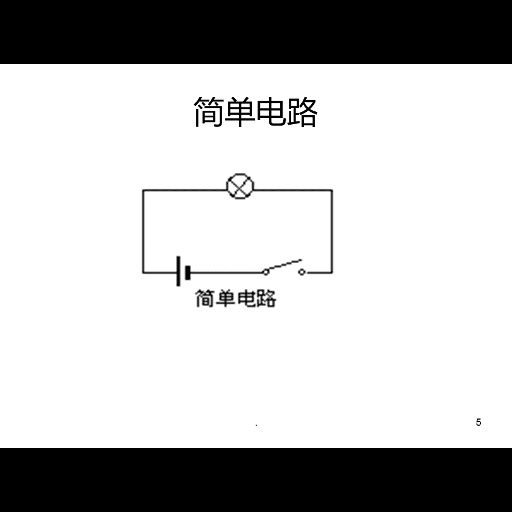light: (224, 172, 253, 199)
